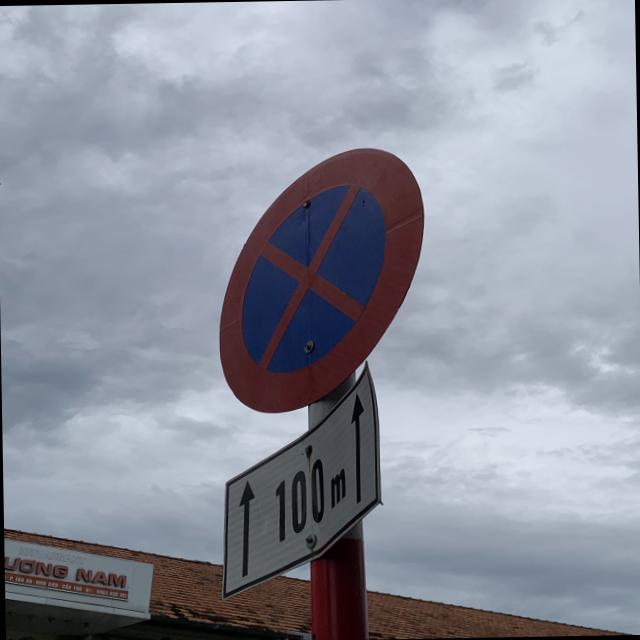Cam_Dung_Va_Dau_Xe: (219, 147, 431, 406)
